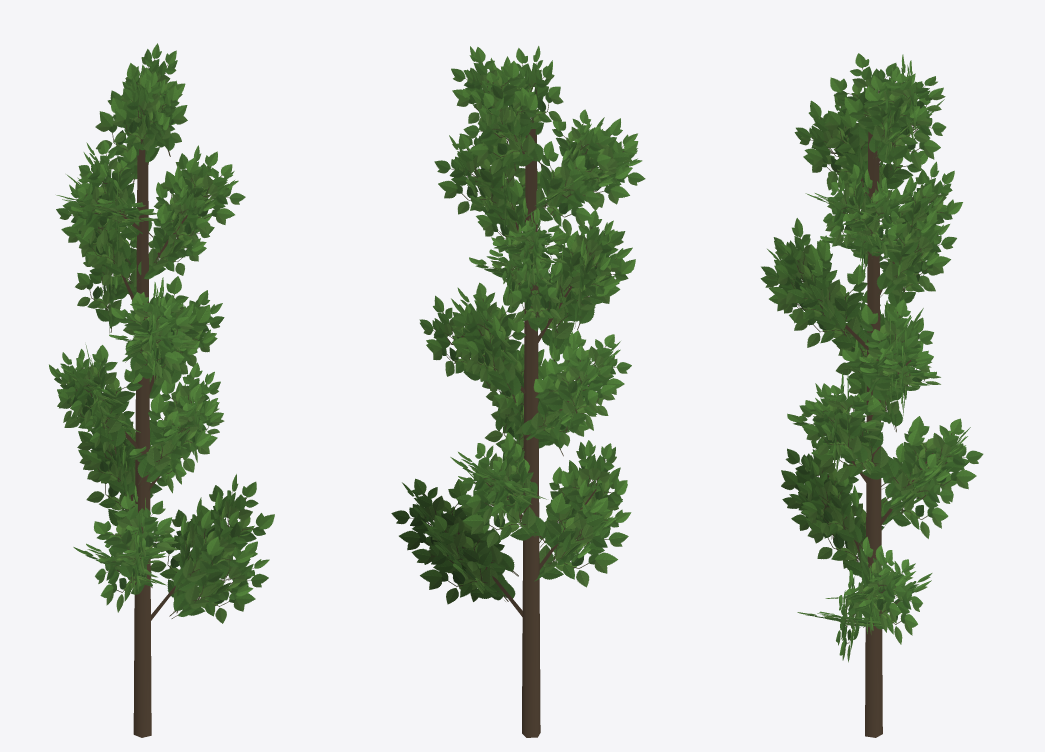
The model's file is Tall Shrub 03.glb.
3 views of the same model, side by side, from view 1: azimuth 30°, elevation 25°; view 2: azimuth 150°, elevation 25°; view 3: azimuth 270°, elevation 25° (orthographic). The views are drawn at different scales.
Visible parts, largest first — view 1: Tall Shrub 03; view 2: Tall Shrub 03; view 3: Tall Shrub 03.
Part boxes in pixels (x1,y1,x2,y2): Tall Shrub 03: (49, 43, 274, 737); Tall Shrub 03: (391, 46, 645, 737); Tall Shrub 03: (760, 53, 983, 737).
Size of the model in its own units: 1.51 by 3.66 by 1.45.
1 material, 1 textured.
